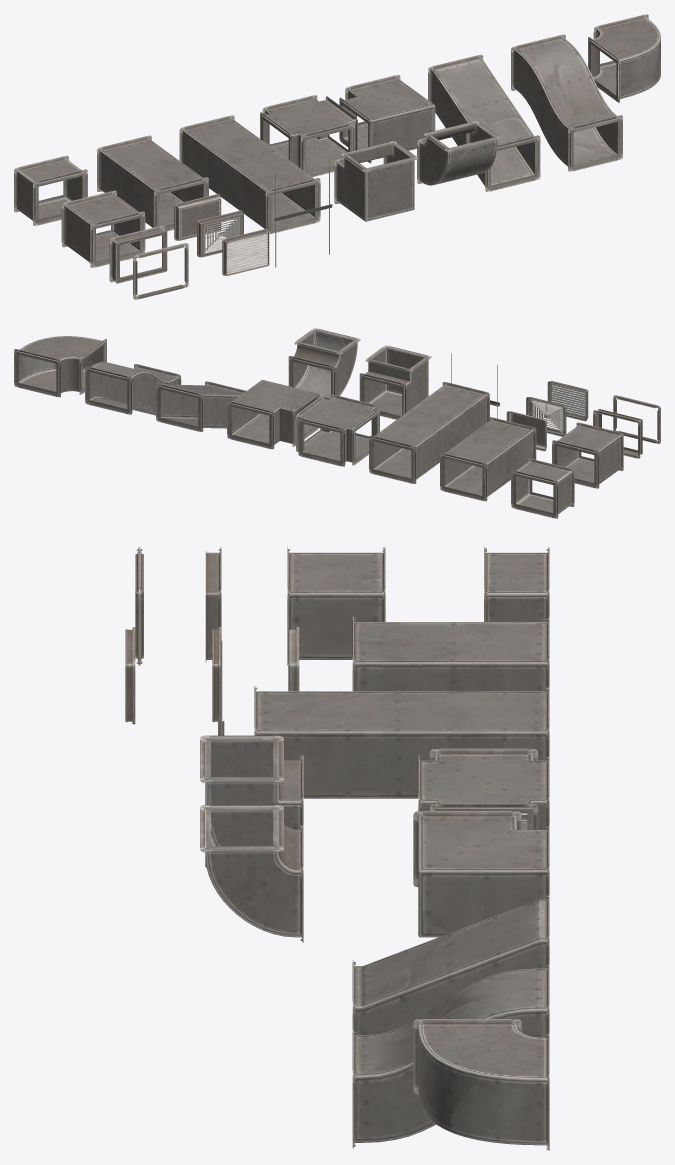
Rendered from modular_airduct_rectangular_01.glb.
3 renders of one model, top to bottom at view 1: azimuth 30°, elevation 25°; view 2: azimuth 150°, elevation 25°; view 3: azimuth 270°, elevation 25°, orthographic. The views are drawn at different scales.
Parts seen in each view (by area): view 1: modular_airduct_rectangular_01_single_01; view 2: modular_airduct_rectangular_01_single_01; view 3: modular_airduct_rectangular_01_single_01.
Part boxes in pixels (x1,y1,x2,y2): modular_airduct_rectangular_01_single_01: (14, 14, 660, 299); modular_airduct_rectangular_01_single_01: (14, 328, 660, 518); modular_airduct_rectangular_01_single_01: (125, 547, 549, 1150).
Bounding box in the file's own units: 7.66 × 1.26 × 2.59.
Materials: 2 (2 with a texture image).
